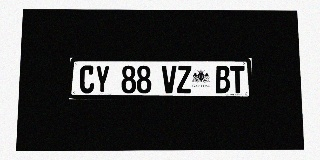8: (121, 65, 136, 93), (136, 65, 151, 93)
B: (215, 66, 230, 93)
C: (79, 65, 95, 93)
T: (230, 66, 245, 93)
V: (162, 66, 176, 93)
Y: (95, 65, 110, 93)
Z: (177, 66, 192, 93)
